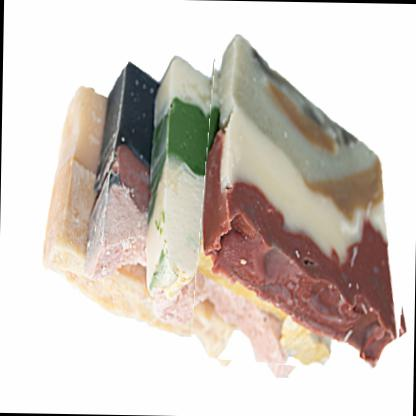soap: (194, 34, 415, 371)
